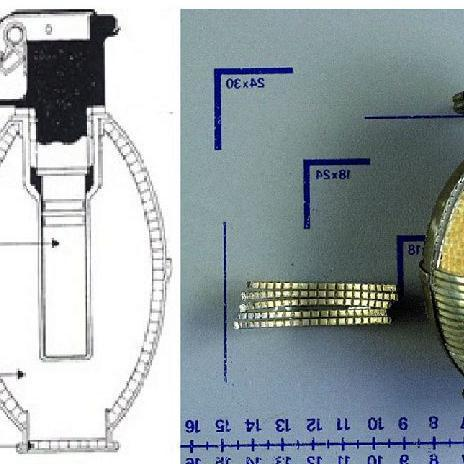Grenade: (1, 9, 172, 453), (416, 67, 463, 409)
